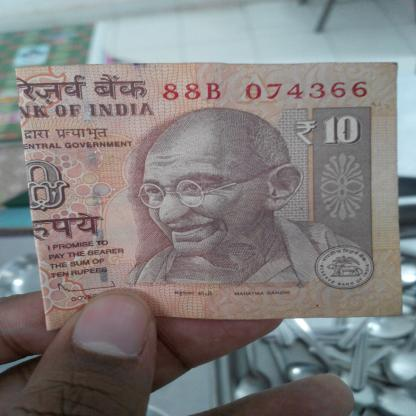Old10Front: (13, 61, 406, 332)
